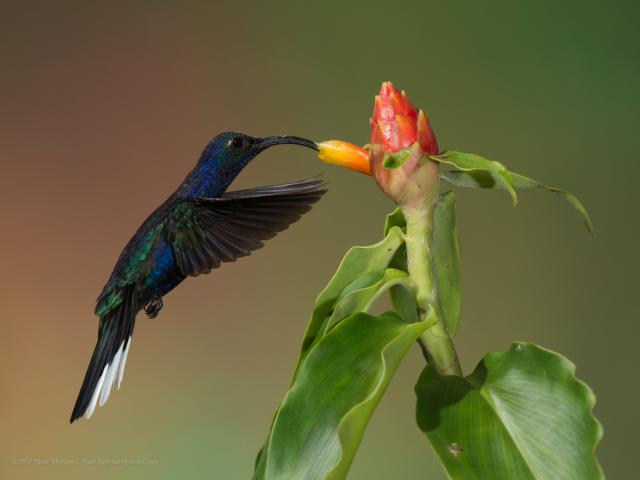Bird: (70, 130, 320, 420)
